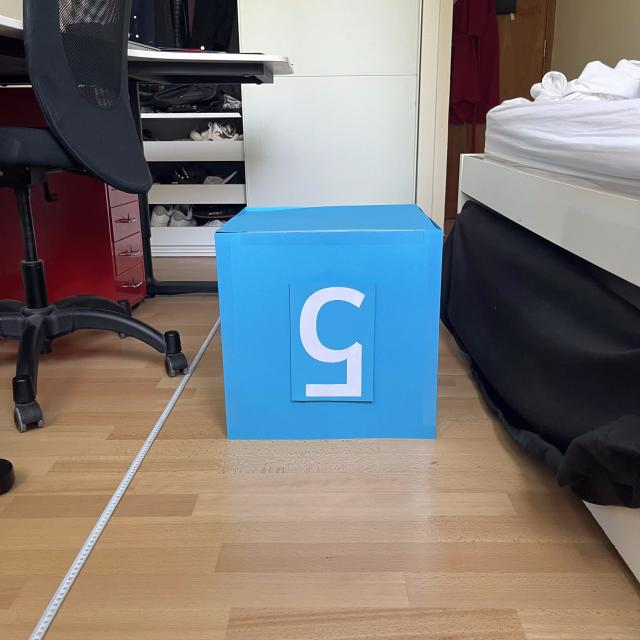box: (210, 200, 446, 442)
